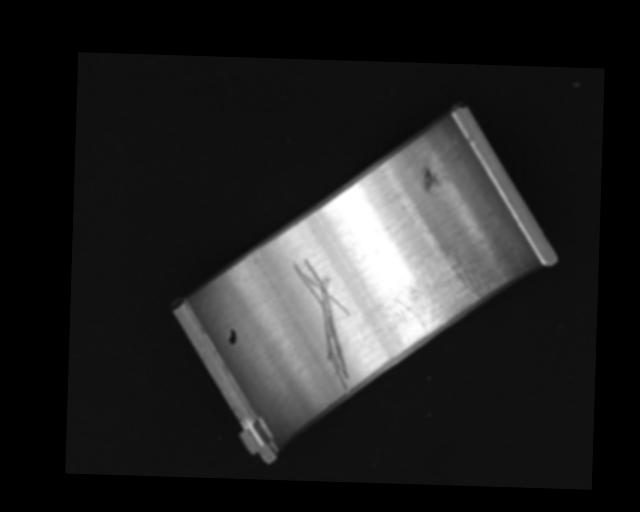blot: (227, 327, 237, 347)
bruise: (421, 167, 439, 194)
nick: (288, 258, 353, 399)
scratch: (384, 247, 506, 337)
